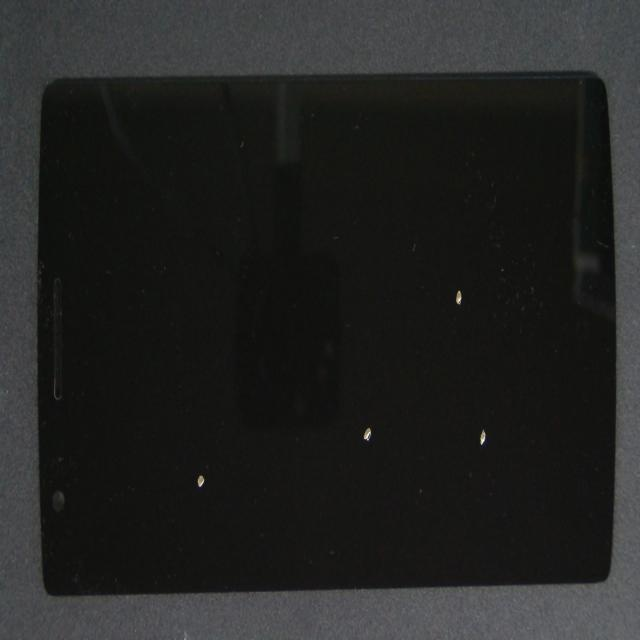stain: (253, 169, 640, 613), (197, 168, 549, 626), (238, 96, 640, 414), (126, 258, 314, 640)
